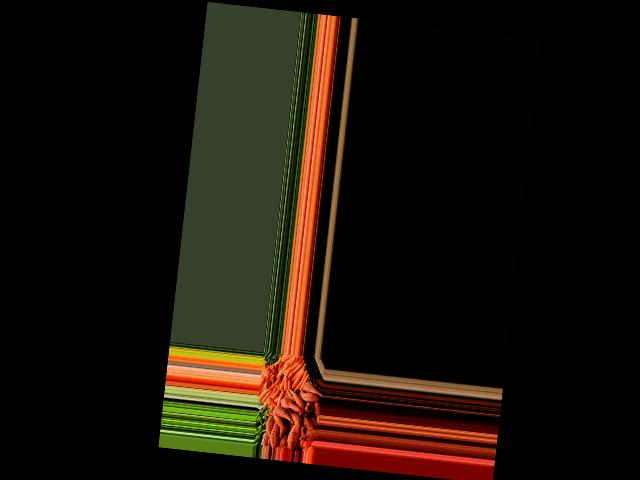carrot: (291, 368, 304, 391)
